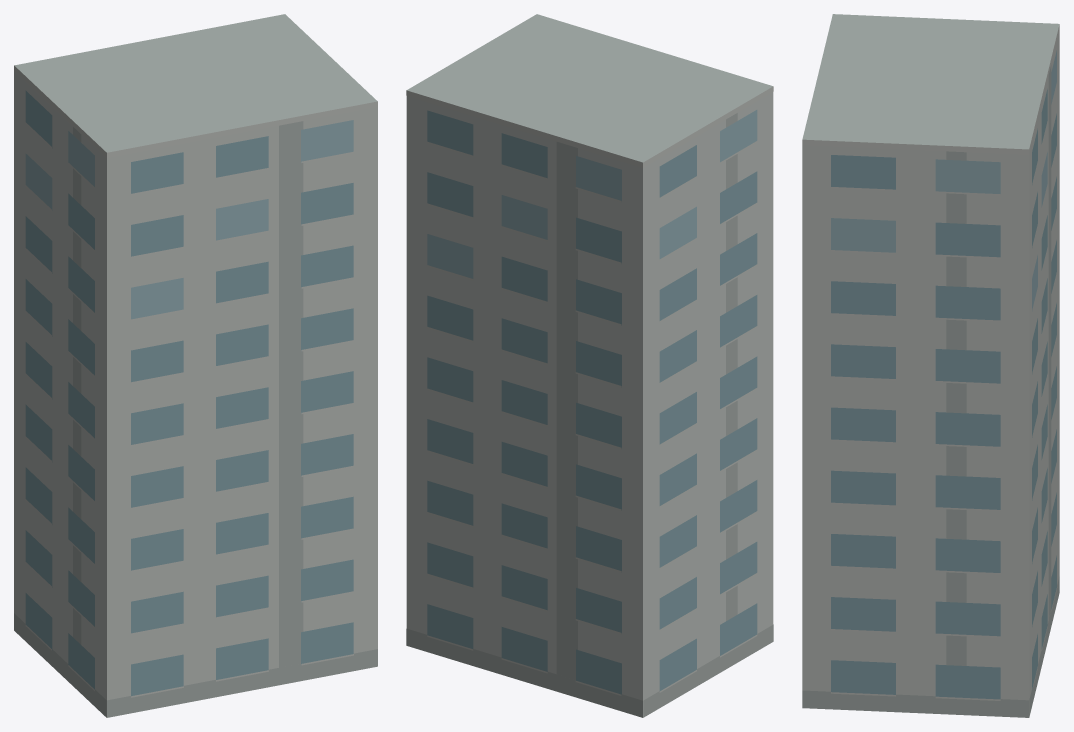
Rendered from residential-97d0b5c4-ed6f-4599-83b9-72f5ce4e7f65.glb.
3 renders of one model, left to right at view 1: azimuth 30°, elevation 25°; view 2: azimuth 150°, elevation 25°; view 3: azimuth 270°, elevation 25°, orthographic. The views are drawn at different scales.
Visible parts, largest first — view 1: residential-97d0b5c4-ed6f-4599-83b9-72f5ce4e7f65.tmp; view 2: residential-97d0b5c4-ed6f-4599-83b9-72f5ce4e7f65.tmp; view 3: residential-97d0b5c4-ed6f-4599-83b9-72f5ce4e7f65.tmp.
Boxes of the visible parts, box(x1,y1,x2,y2) form: residential-97d0b5c4-ed6f-4599-83b9-72f5ce4e7f65.tmp: box(14, 14, 377, 717); residential-97d0b5c4-ed6f-4599-83b9-72f5ce4e7f65.tmp: box(406, 14, 773, 717); residential-97d0b5c4-ed6f-4599-83b9-72f5ce4e7f65.tmp: box(802, 14, 1059, 717).
Bounding box in the file's own units: 12.78 × 25 × 10.26.
